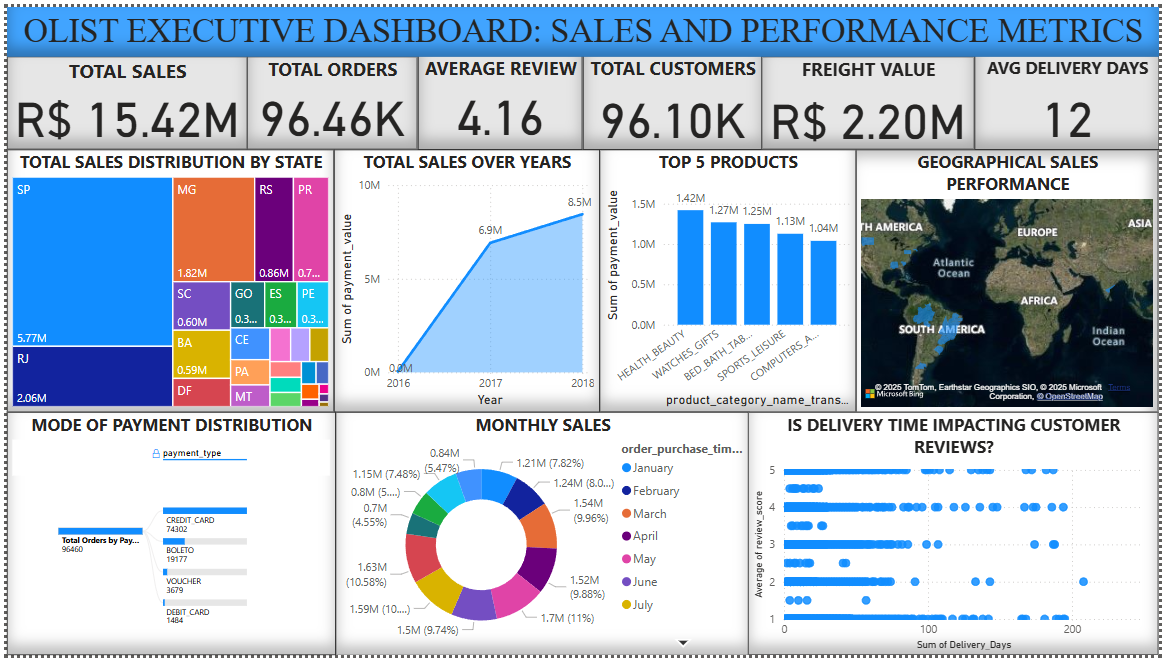

Layout of this report page (visuals, bound fields, positions):
{"tool":"powerbi","page":{"name":"Page 1","canvas":[1280,720],"ordinal":0},"visuals":[{"type":"card","title":"TOTAL SALES","fields":{"Values":["Sum(order_payments.payment_value)"]},"box":[0,55.1,267.2,103.6],"z":0},{"type":"card","title":"TOTAL ORDERS","fields":{"Values":["Count(orders.order_id)"]},"box":[267.2,55.1,189.4,103.6],"z":1000},{"type":"clusteredColumnChart","title":"TOP 5 PRODUCTS","fields":{"Category":["products.product_category_name_translation.product_category_name_english"],"Y":["Sum(order_payments.payment_value)"]},"box":[658.3,158.3,285,291.7],"z":2000},{"type":"filledMap","title":"GEOGRAPHICAL SALES PERFORMANCE","fields":{"Category":["customers.customer_state"]},"box":[944,158,336,292],"z":3000},{"type":"donutChart","title":"MONTHLY SALES","fields":{"Category":["orders.order_purchase_timestamp.Variation.Date Hierarchy.Month"],"Y":["Sum(order_payments.payment_value)"]},"box":[364.3,450.1,459.9,270.4],"z":4000},{"type":"areaChart","title":"TOTAL SALES OVER YEARS","fields":{"Category":["orders.order_purchase_timestamp.Variation.Date Hierarchy.Year"],"Y":["Sum(order_payments.payment_value)"]},"box":[363.3,158.3,295,291.7],"z":5000},{"type":"decompositionTreeVisual","title":"MODE OF PAYMENT DISTRIBUTION","fields":{"ExplainBy":["order_payments.payment_type"],"Analyze":["order_payments.Total Orders by Payment"]},"box":[0,450,365,270],"z":6000},{"type":"card","title":"AVERAGE REVIEW","fields":{"Values":["order_reviews.Average Review"]},"box":[456.6,53.4,183,105.2],"z":7000},{"type":"card","title":"TOTAL CUSTOMERS","fields":{"Values":["Count(customers.customer_unique_id)"]},"box":[639.6,53.4,199.2,105.2],"z":8000},{"type":"card","title":"FREIGHT VALUE","fields":{"Values":["Sum(order_items.freight_value)"]},"box":[838.8,55.1,236.4,103.6],"z":9000},{"type":"scatterChart","title":"IS DELIVERY TIME IMPACTING CUSTOMER REVIEWS?","fields":{"X":["Sum(orders.Delivery_Days)"],"Y":["Avg(order_reviews.review_score)"],"Category":["orders.order_id"]},"box":[824,450,456,270],"z":10000},{"type":"treemap","title":"TOTAL SALES DISTRIBUTION BY STATE","fields":{"Group":["customers.customer_state"],"Values":["Sum(order_payments.payment_value)"]},"box":[0,158.3,363.3,291.7],"z":11000},{"type":"card","title":"AVG DELIVERY DAYS","fields":{"Values":["Avg(orders.Delivery_Days)"]},"box":[1075.2,53.4,205.6,105.2],"z":12000},{"type":"textbox","box":[0,0,1280.8,55.1],"z":13000}]}

Visuals, with their boxes in screenshot pixels (x1, y1, x2, y2), scaled from the page's 1280x720 canvas onto the 1169x659 screenshot:
"TOTAL SALES" card: region(0, 50, 244, 145)
"TOTAL ORDERS" card: region(244, 50, 417, 145)
"TOP 5 PRODUCTS" clusteredColumnChart: region(601, 145, 861, 412)
"GEOGRAPHICAL SALES PERFORMANCE" filledMap: region(862, 145, 1168, 412)
"MONTHLY SALES" donutChart: region(333, 412, 753, 658)
"TOTAL SALES OVER YEARS" areaChart: region(332, 145, 601, 412)
"MODE OF PAYMENT DISTRIBUTION" decompositionTreeVisual: region(0, 412, 333, 658)
"AVERAGE REVIEW" card: region(417, 49, 584, 145)
"TOTAL CUSTOMERS" card: region(584, 49, 766, 145)
"FREIGHT VALUE" card: region(766, 50, 982, 145)
"IS DELIVERY TIME IMPACTING CUSTOMER REVIEWS?" scatterChart: region(753, 412, 1168, 658)
"TOTAL SALES DISTRIBUTION BY STATE" treemap: region(0, 145, 332, 412)
"AVG DELIVERY DAYS" card: region(982, 49, 1168, 145)
textbox: region(0, 0, 1168, 50)
